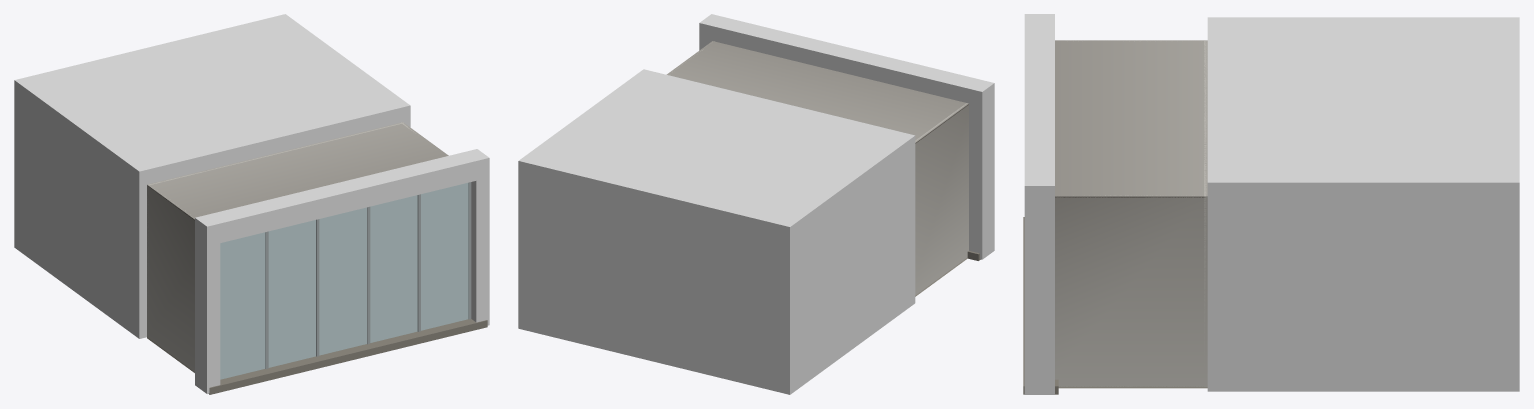
Rendered from tret_tiem_thuoc_60.glb.
3 renders of one model, left to right at view 1: azimuth 30°, elevation 25°; view 2: azimuth 150°, elevation 25°; view 3: azimuth 270°, elevation 25°, orthographic. The views are drawn at different scales.
Parts seen in each view (by area): view 1: tret_tiem_thuoc_60; view 2: tret_tiem_thuoc_60; view 3: tret_tiem_thuoc_60.
Part boxes in pixels (x1,y1,x2,y2): tret_tiem_thuoc_60: (14,14,489,394); tret_tiem_thuoc_60: (518,14,994,394); tret_tiem_thuoc_60: (1023,14,1519,394).
Size of the model in its own units: 6 by 3.42 by 7.32.
